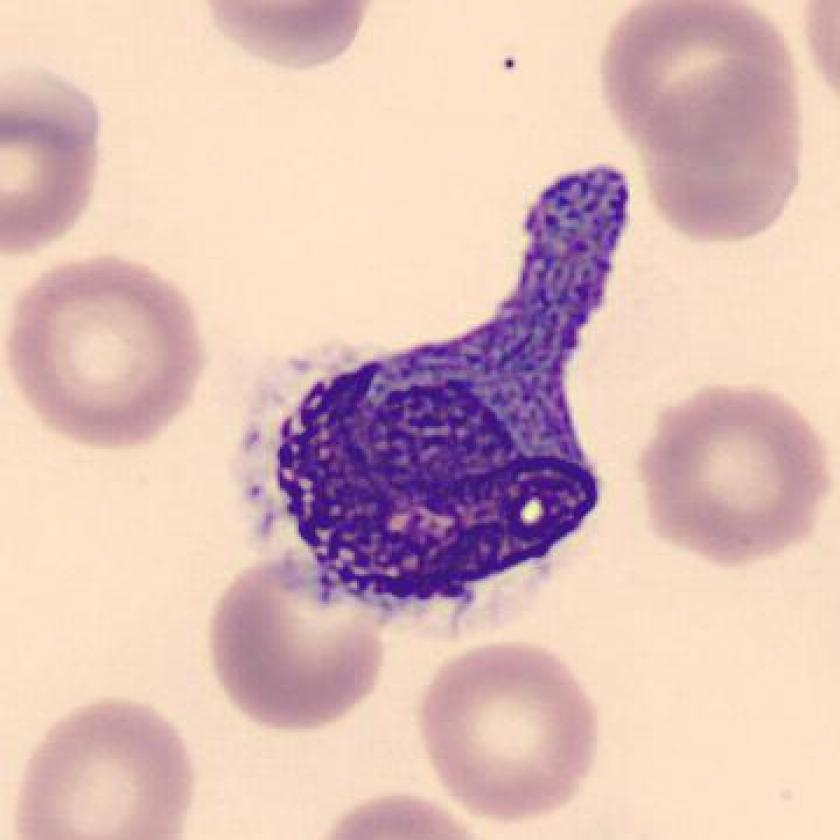monocyte: (216, 154, 654, 644)
